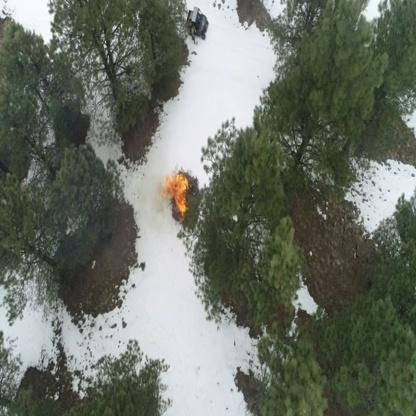Fire: (161, 171, 189, 221)
